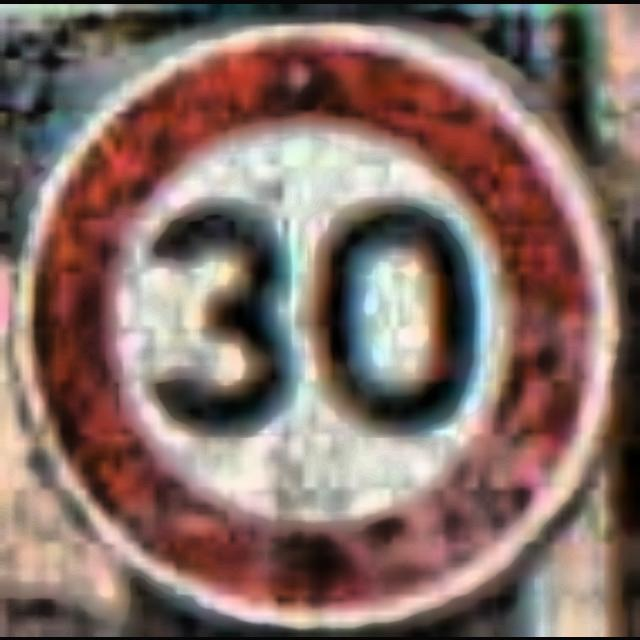speed_30: (1, 3, 634, 629)
